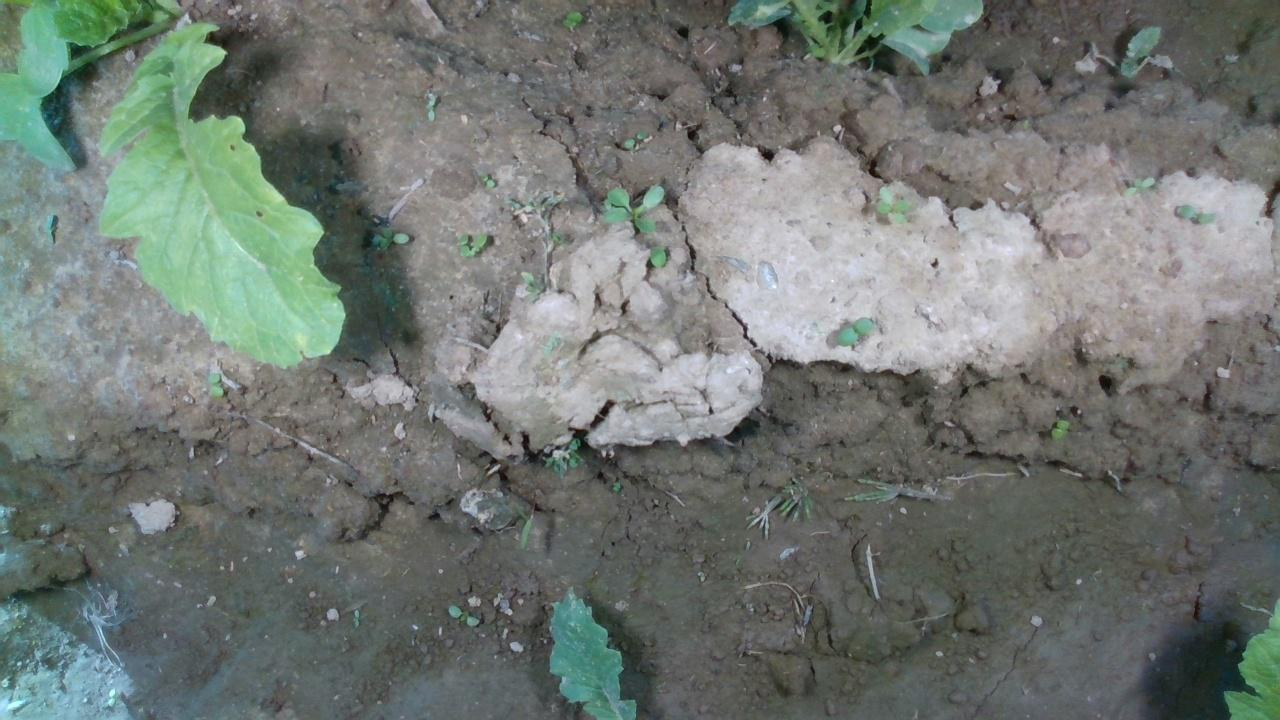weed: (872, 183, 910, 226), (367, 224, 411, 252), (836, 313, 873, 346), (1174, 201, 1216, 226), (1121, 174, 1156, 198), (446, 604, 480, 628), (618, 128, 648, 149), (206, 368, 225, 399), (1048, 417, 1069, 439), (423, 90, 436, 123), (480, 173, 495, 188), (349, 607, 359, 629)
